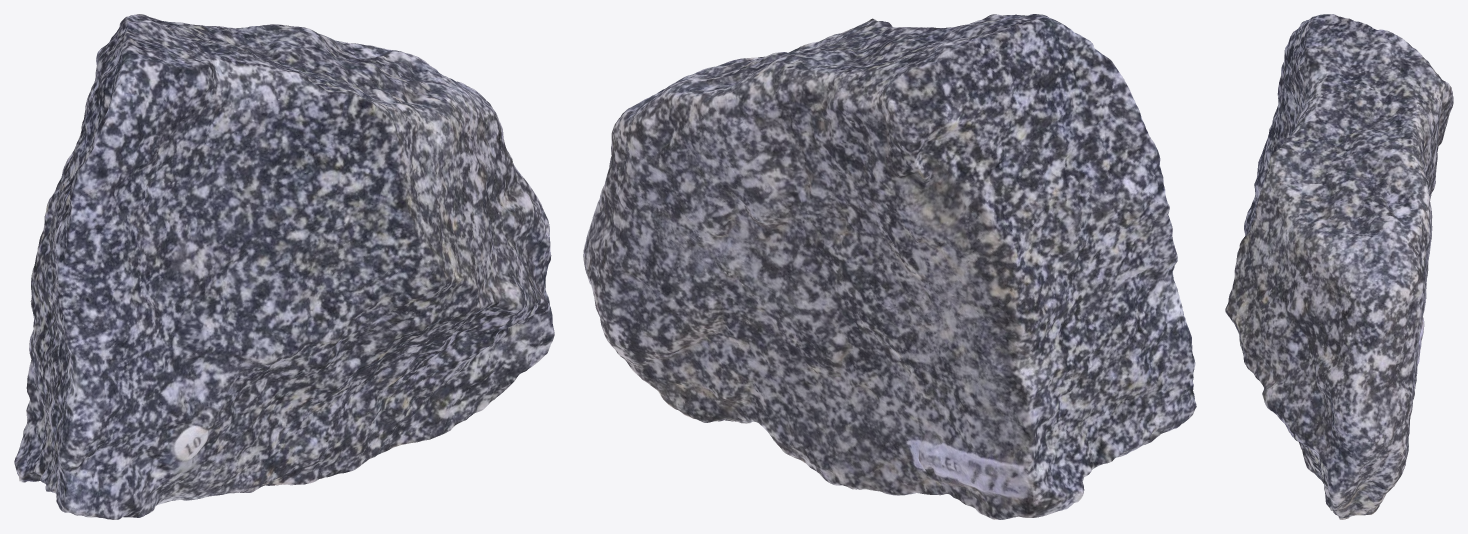
File: diorite.glb
3 renders of one model, left to right at view 1: azimuth 30°, elevation 25°; view 2: azimuth 150°, elevation 25°; view 3: azimuth 270°, elevation 25°, orthographic. The views are drawn at different scales.
Parts seen in each view (by area): view 1: Object_2; view 2: Object_2; view 3: Object_2.
Boxes of the visible parts, box(x1,y1,x2,y2) form: Object_2: box(14, 14, 554, 519); Object_2: box(583, 14, 1196, 519); Object_2: box(1225, 14, 1453, 519).
Size of the model in its own units: 0.11 by 0.0925 by 0.0494.
1 material, 1 textured.
